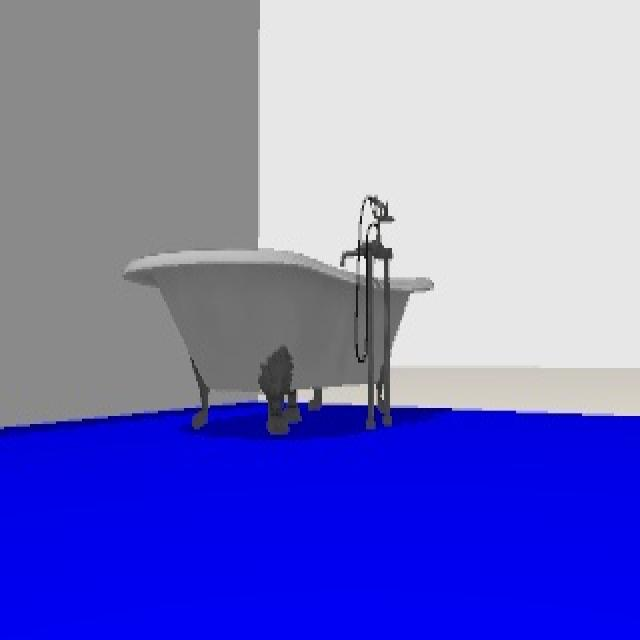bathtub: (128, 200, 430, 432)
